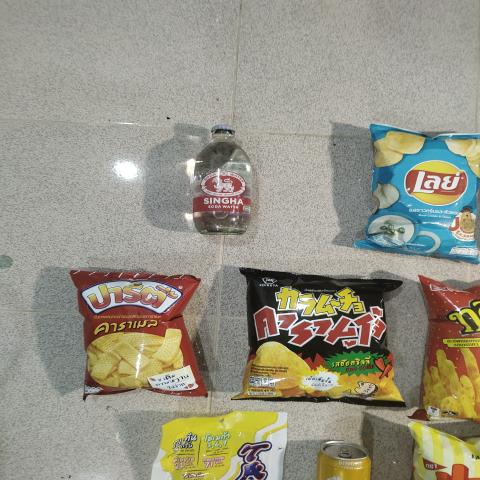karamujo: (240, 271, 398, 399)
lay_blue: (371, 126, 480, 255)
party_red: (76, 267, 192, 402)
singha_soda: (184, 121, 262, 239)
